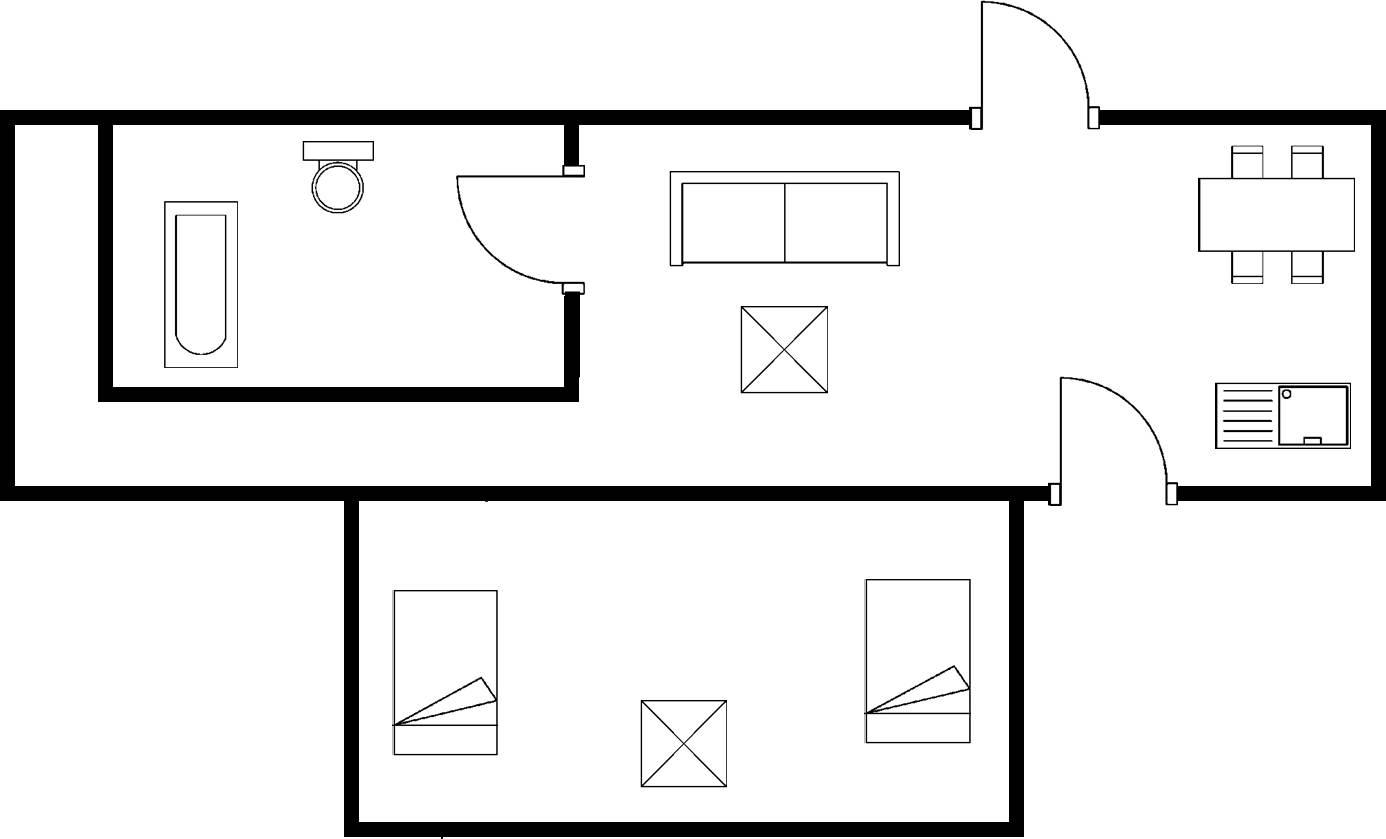bed: (385, 582, 504, 761), (859, 571, 974, 748)
dining_table: (1189, 137, 1361, 288)
sink: (1206, 375, 1355, 456)
sofa: (660, 164, 905, 273)
toilet: (297, 135, 379, 220)
tub: (156, 195, 246, 371)
